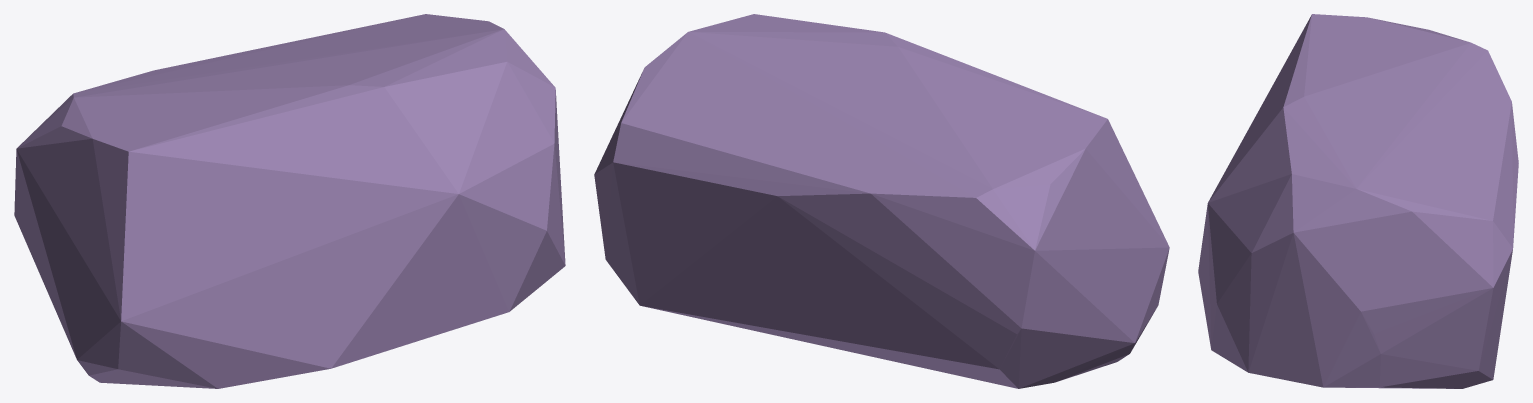
Rendered from food_prepared_bread_farmerSourdough_a01.glb.
3 views of the same model, side by side, from view 1: azimuth 30°, elevation 25°; view 2: azimuth 150°, elevation 25°; view 3: azimuth 270°, elevation 25° (orthographic). The views are drawn at different scales.
Parts seen in each view (by area): view 1: geometry_0; view 2: geometry_0; view 3: geometry_0.
Part boxes in pixels (<box>): geometry_0: <box>14,14,565,388</box>; geometry_0: <box>594,14,1169,388</box>; geometry_0: <box>1198,14,1518,388</box>.
Bounding box in the file's own units: 0.4691 × 0.2341 × 0.2905.
